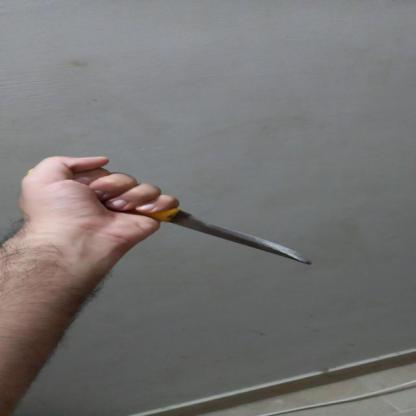Knife: (59, 162, 313, 268)
